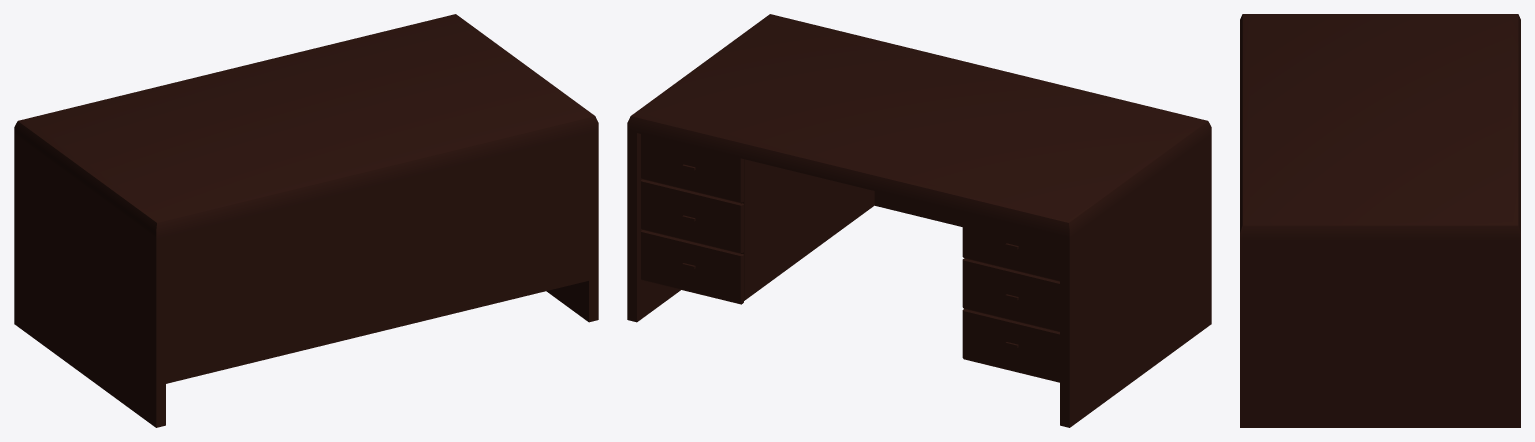
The model's file is deslk.fbx.
3 views of the same model, side by side, from view 1: azimuth 30°, elevation 25°; view 2: azimuth 150°, elevation 25°; view 3: azimuth 270°, elevation 25° (orthographic).
Parts seen in each view (by area): view 1: desk; view 2: desk; view 3: desk.
Part boxes in pixels (<box>): desk: <box>14,14,598,427</box>; desk: <box>627,14,1211,427</box>; desk: <box>1240,14,1520,427</box>.
Bounding box in the file's own units: 180 × 80 × 100.
